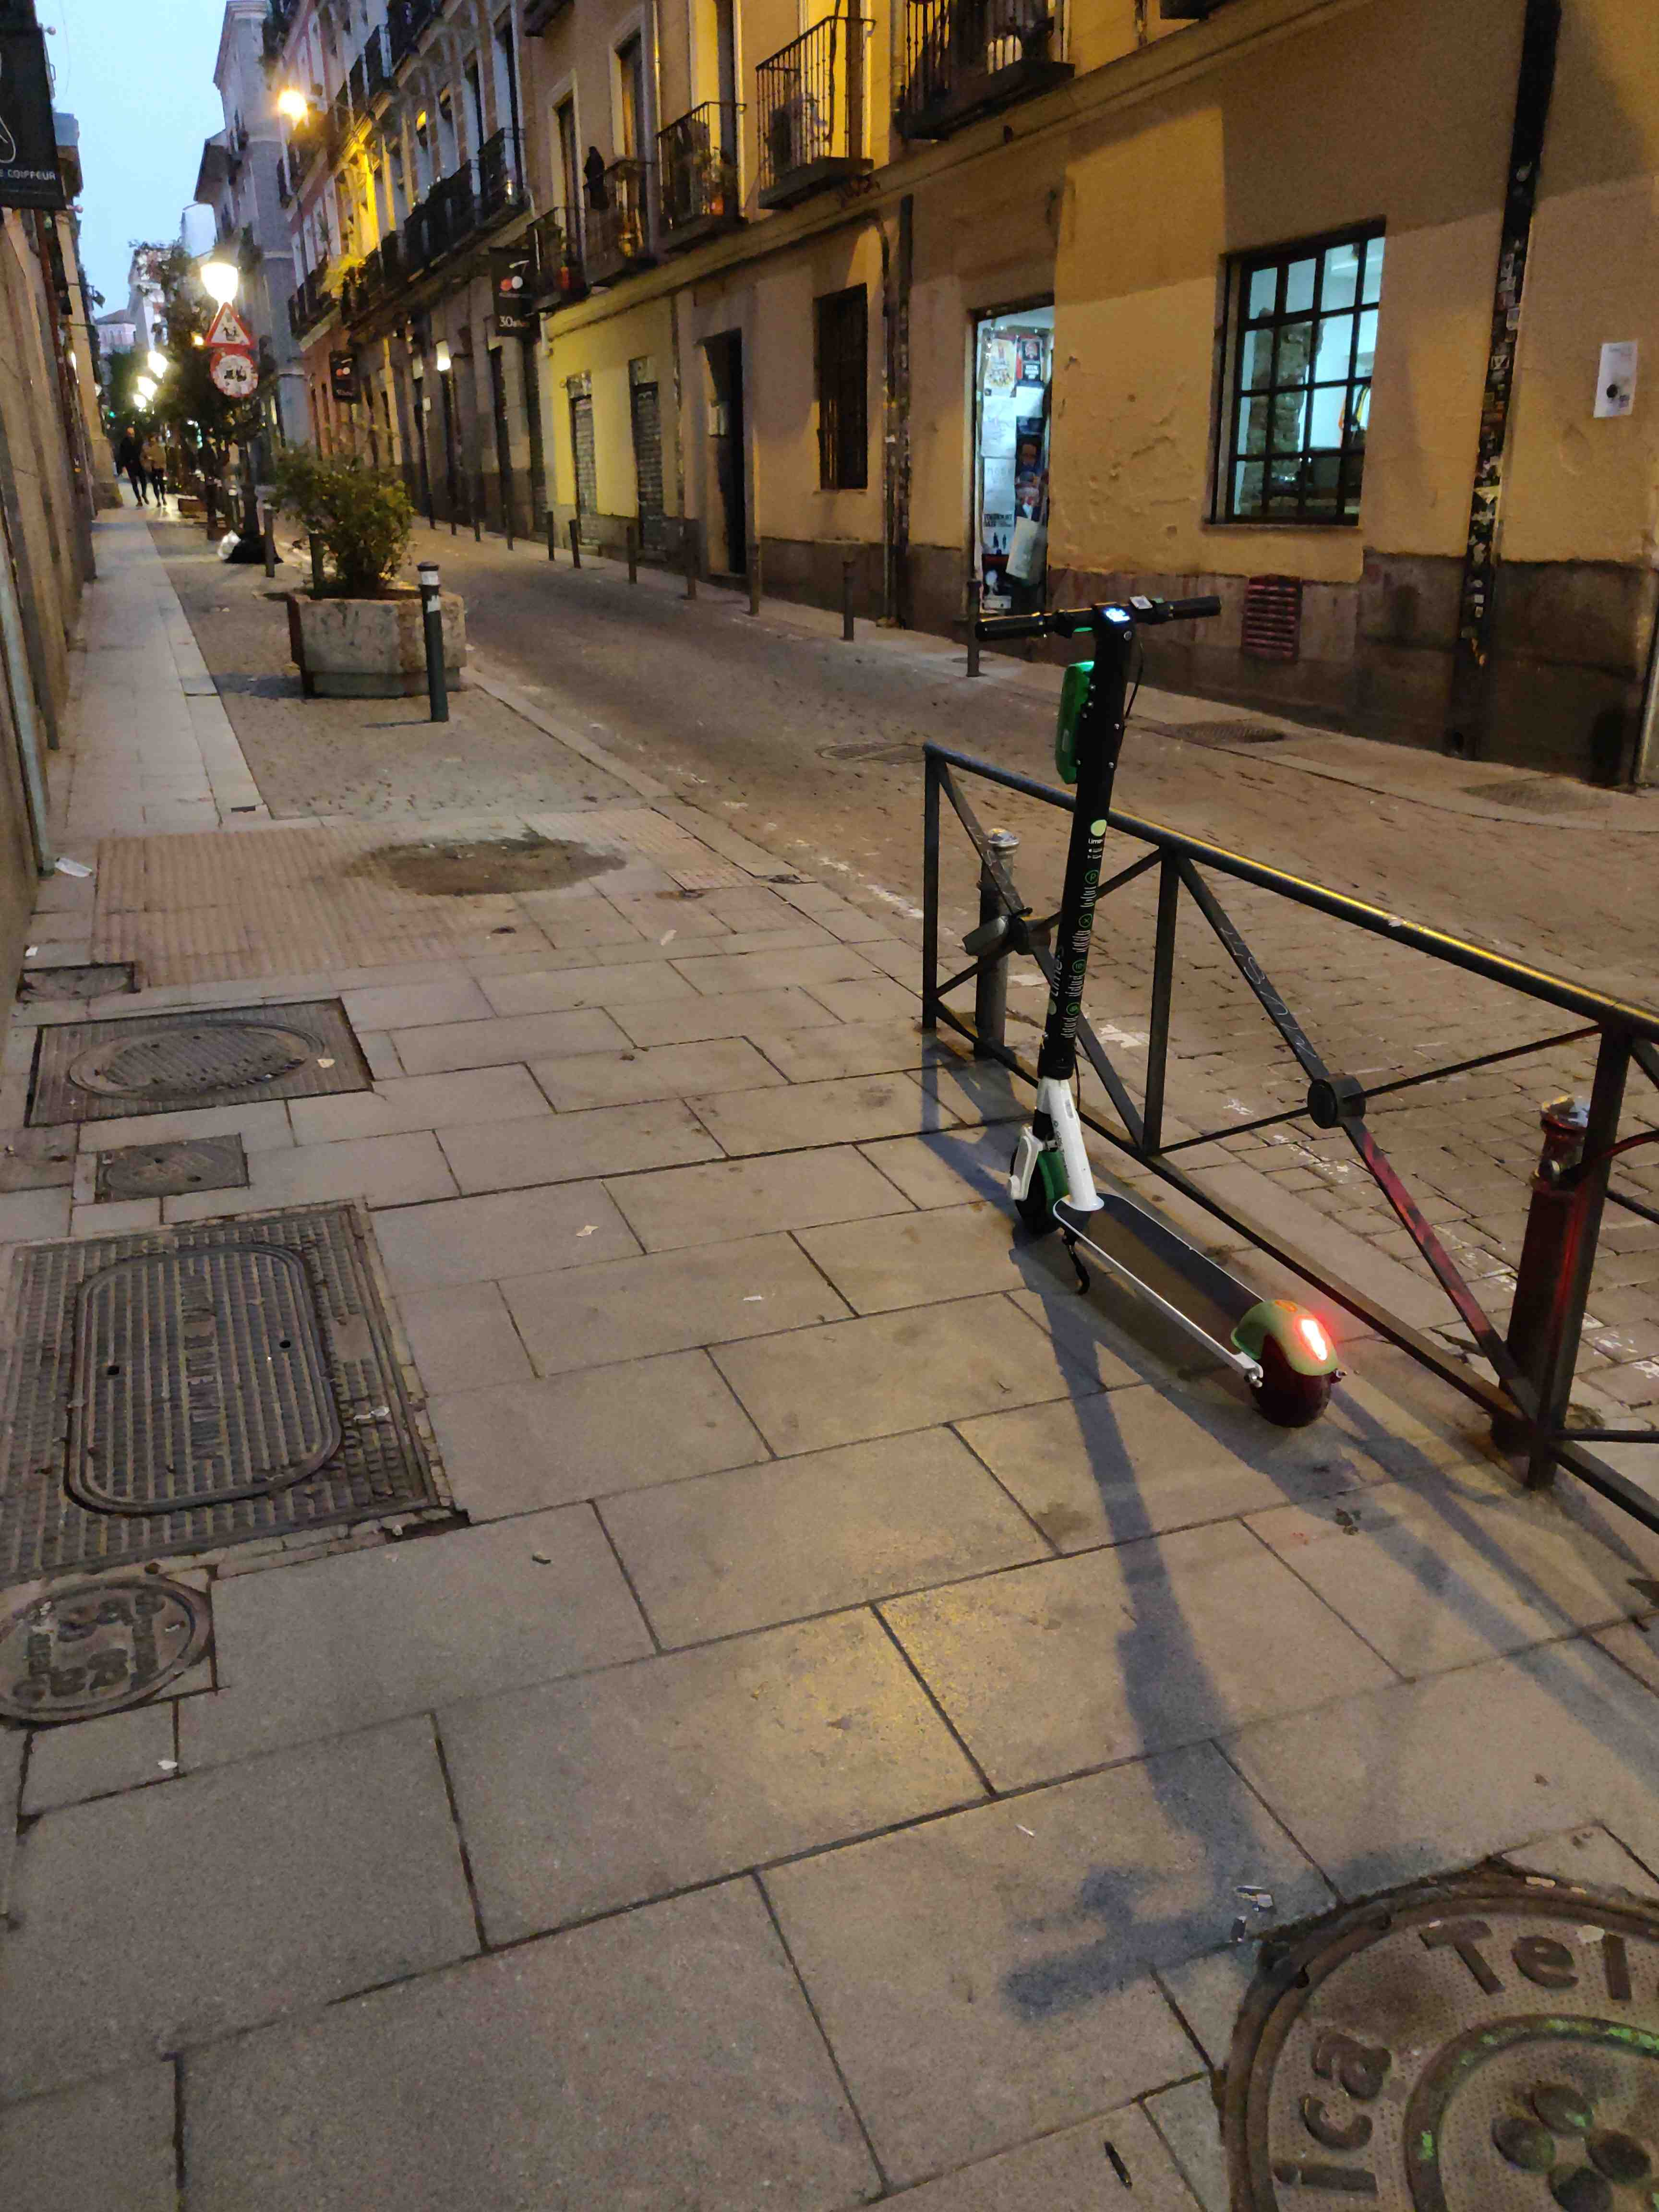scooter: (920, 580, 1321, 1482)
